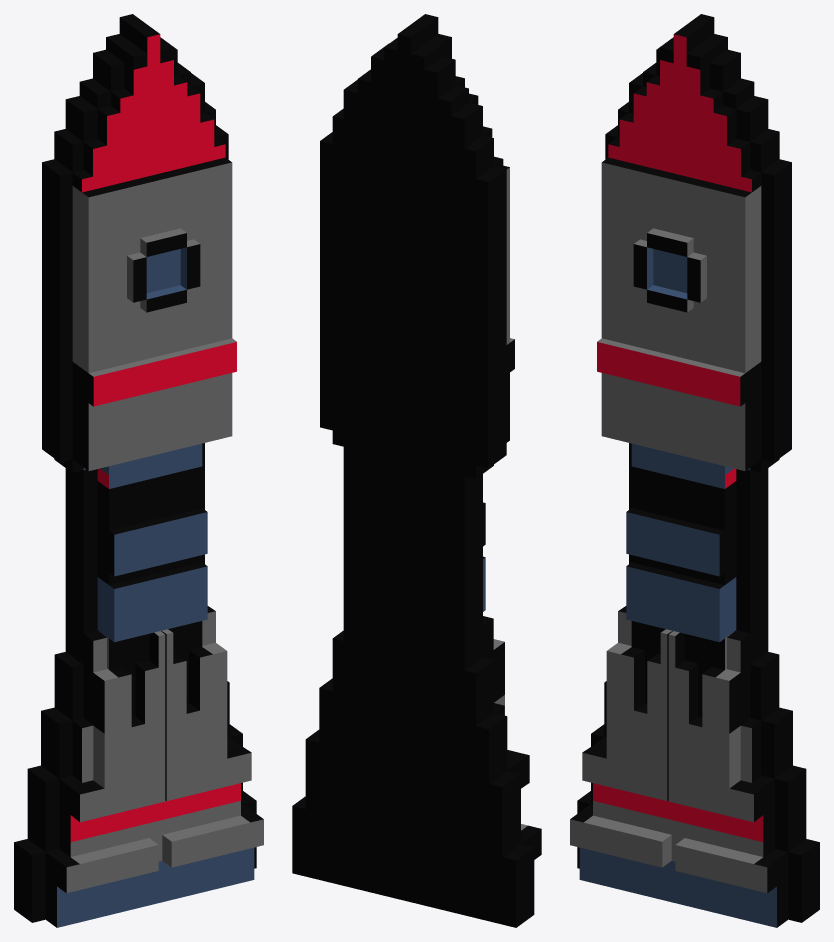
Rendered from RocketShip.fbx.
3 views of the same model, side by side, from view 1: azimuth 30°, elevation 25°; view 2: azimuth 150°, elevation 25°; view 3: azimuth 330°, elevation 25° (orthographic).
Parts seen in each view (by area): view 1: Cube; view 2: Cube; view 3: Cube.
Part boxes in pixels (left/top/right/bottom): Cube: left=14, top=14, right=263, bottom=927; Cube: left=292, top=14, right=541, bottom=927; Cube: left=570, top=14, right=819, bottom=927.
Size of the model in its own units: 145 by 534 by 45.25.
